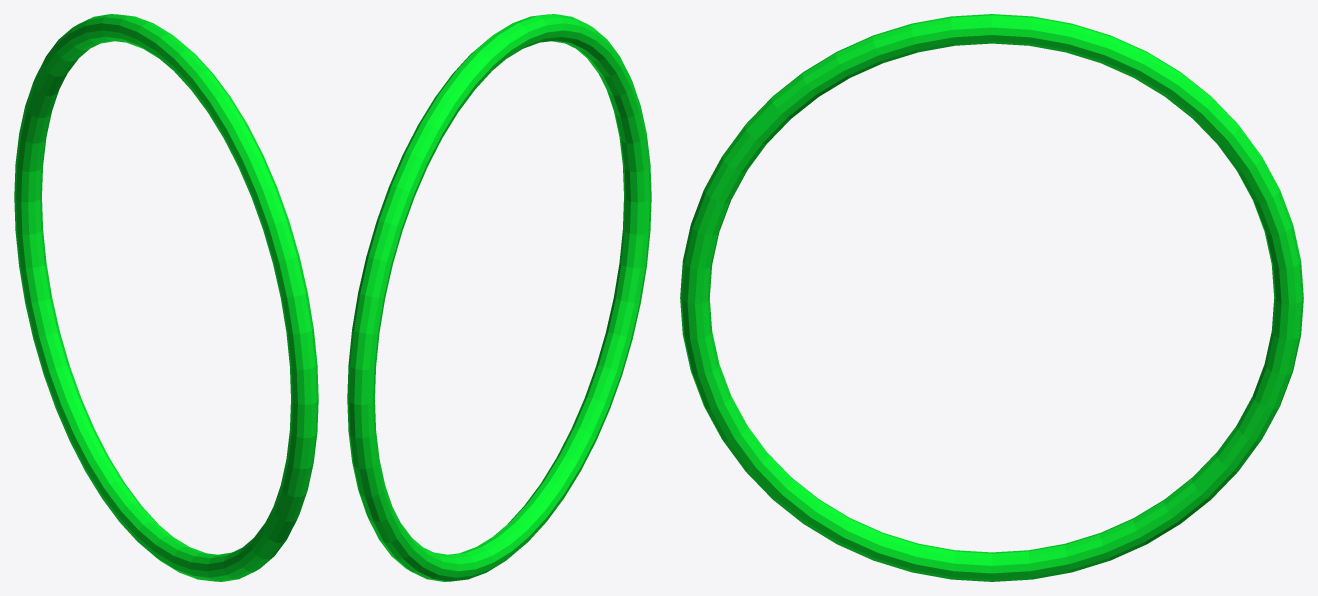
The model's file is ring.gltf.
3 views of the same model, side by side, from view 1: azimuth 30°, elevation 25°; view 2: azimuth 150°, elevation 25°; view 3: azimuth 270°, elevation 25° (orthographic). The views are drawn at different scales.
Visible parts, largest first — view 1: Torus; view 2: Torus; view 3: Torus.
Part boxes in pixels (<box>): Torus: <box>14,14,318,581</box>; Torus: <box>347,14,651,581</box>; Torus: <box>680,14,1303,581</box>.
Size of the model in its own units: 0.1 by 2.1 by 2.1.
